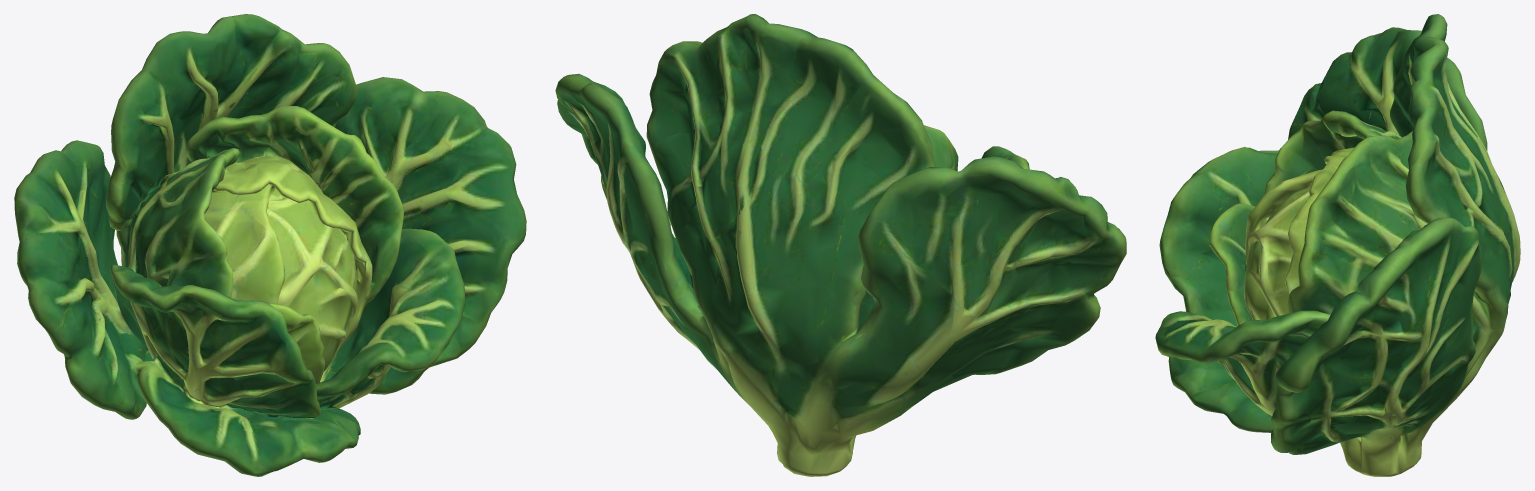
File: cabbage-growing.glb
3 renders of one model, left to right at view 1: azimuth 30°, elevation 25°; view 2: azimuth 150°, elevation 25°; view 3: azimuth 270°, elevation 25°, orthographic. The views are drawn at different scales.
Bounding box in the file's own units: 1.9 × 1.53 × 1.17.
1 material, 1 textured.
